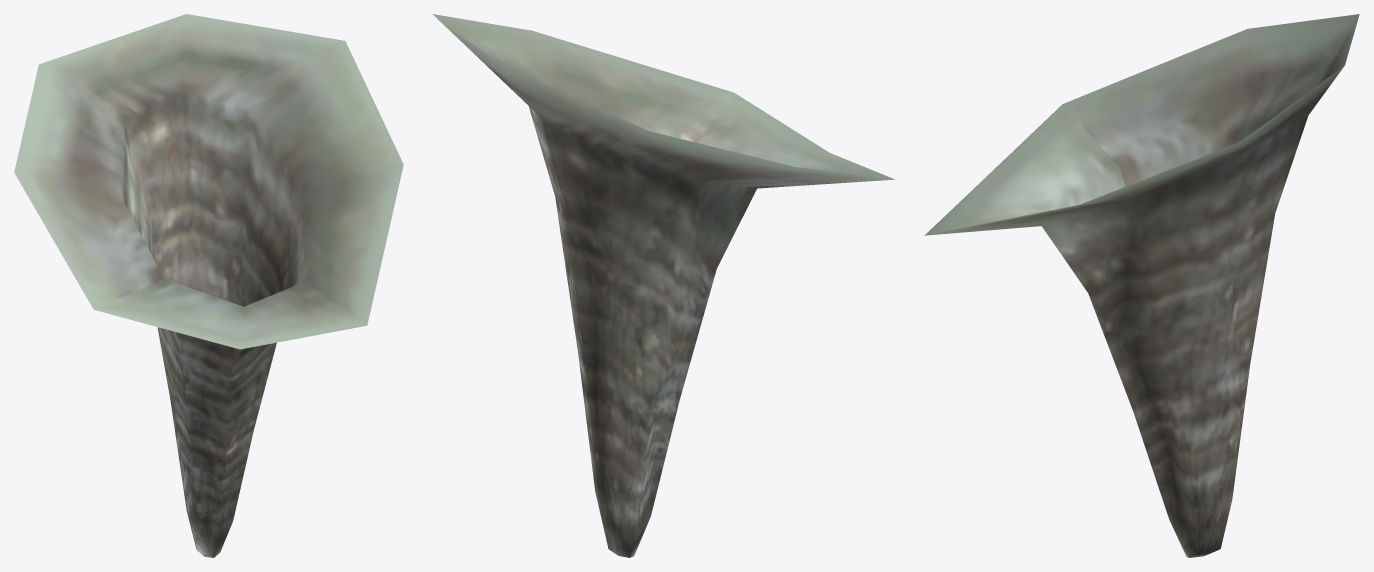
File: TROLLHOLE02_PS-SECRETSTALAG04.fbx
3 renders of one model, left to right at view 1: azimuth 30°, elevation 25°; view 2: azimuth 150°, elevation 25°; view 3: azimuth 270°, elevation 25°, orthographic. The views are drawn at different scales.
Visible parts, largest first — view 1: TROLLHOLE02_PS-SECRETSTALAG04; view 2: TROLLHOLE02_PS-SECRETSTALAG04; view 3: TROLLHOLE02_PS-SECRETSTALAG04.
Part boxes in pixels (x1,y1,x2,y2): TROLLHOLE02_PS-SECRETSTALAG04: (14,14,403,557); TROLLHOLE02_PS-SECRETSTALAG04: (432,14,894,557); TROLLHOLE02_PS-SECRETSTALAG04: (924,14,1359,557).
Size of the model in its own units: 24371 by 33474 by 25562.
Materials: 1 (1 with a texture image).
